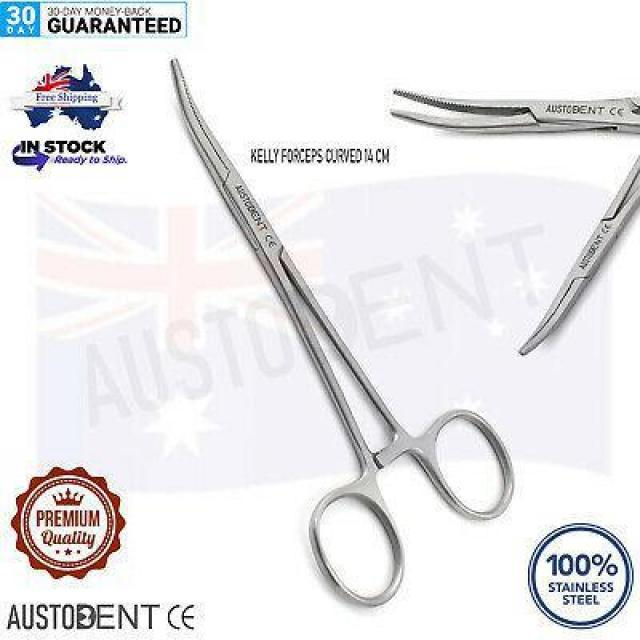Hemostat: (165, 54, 517, 612), (512, 152, 640, 360), (382, 82, 640, 140)
